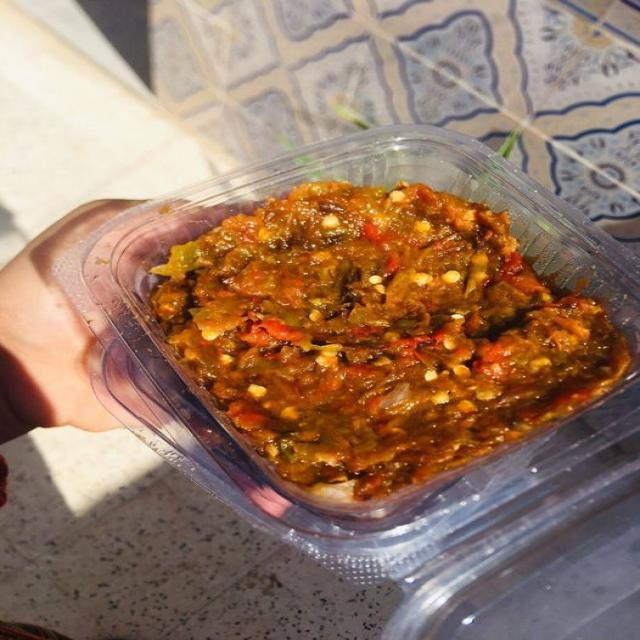Salade mechweya: (107, 180, 640, 523)
